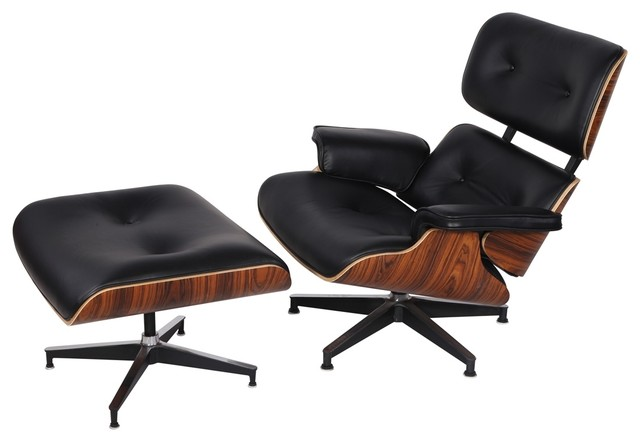chairs: (259, 3, 630, 381), (7, 174, 294, 434)
